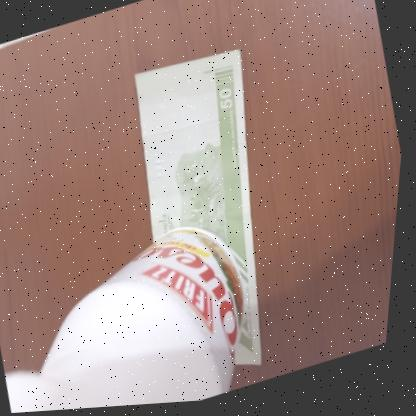fifty-back-vef: (104, 40, 319, 398)
